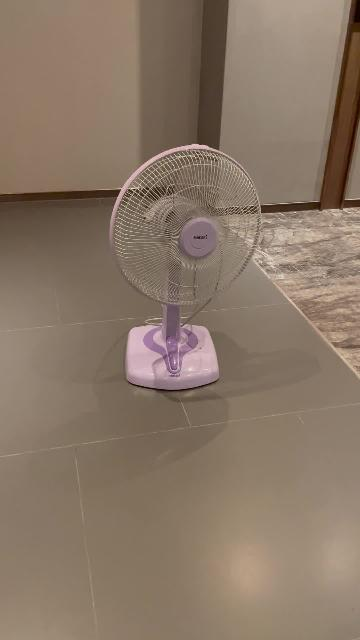Fan: (110, 145, 261, 392)
